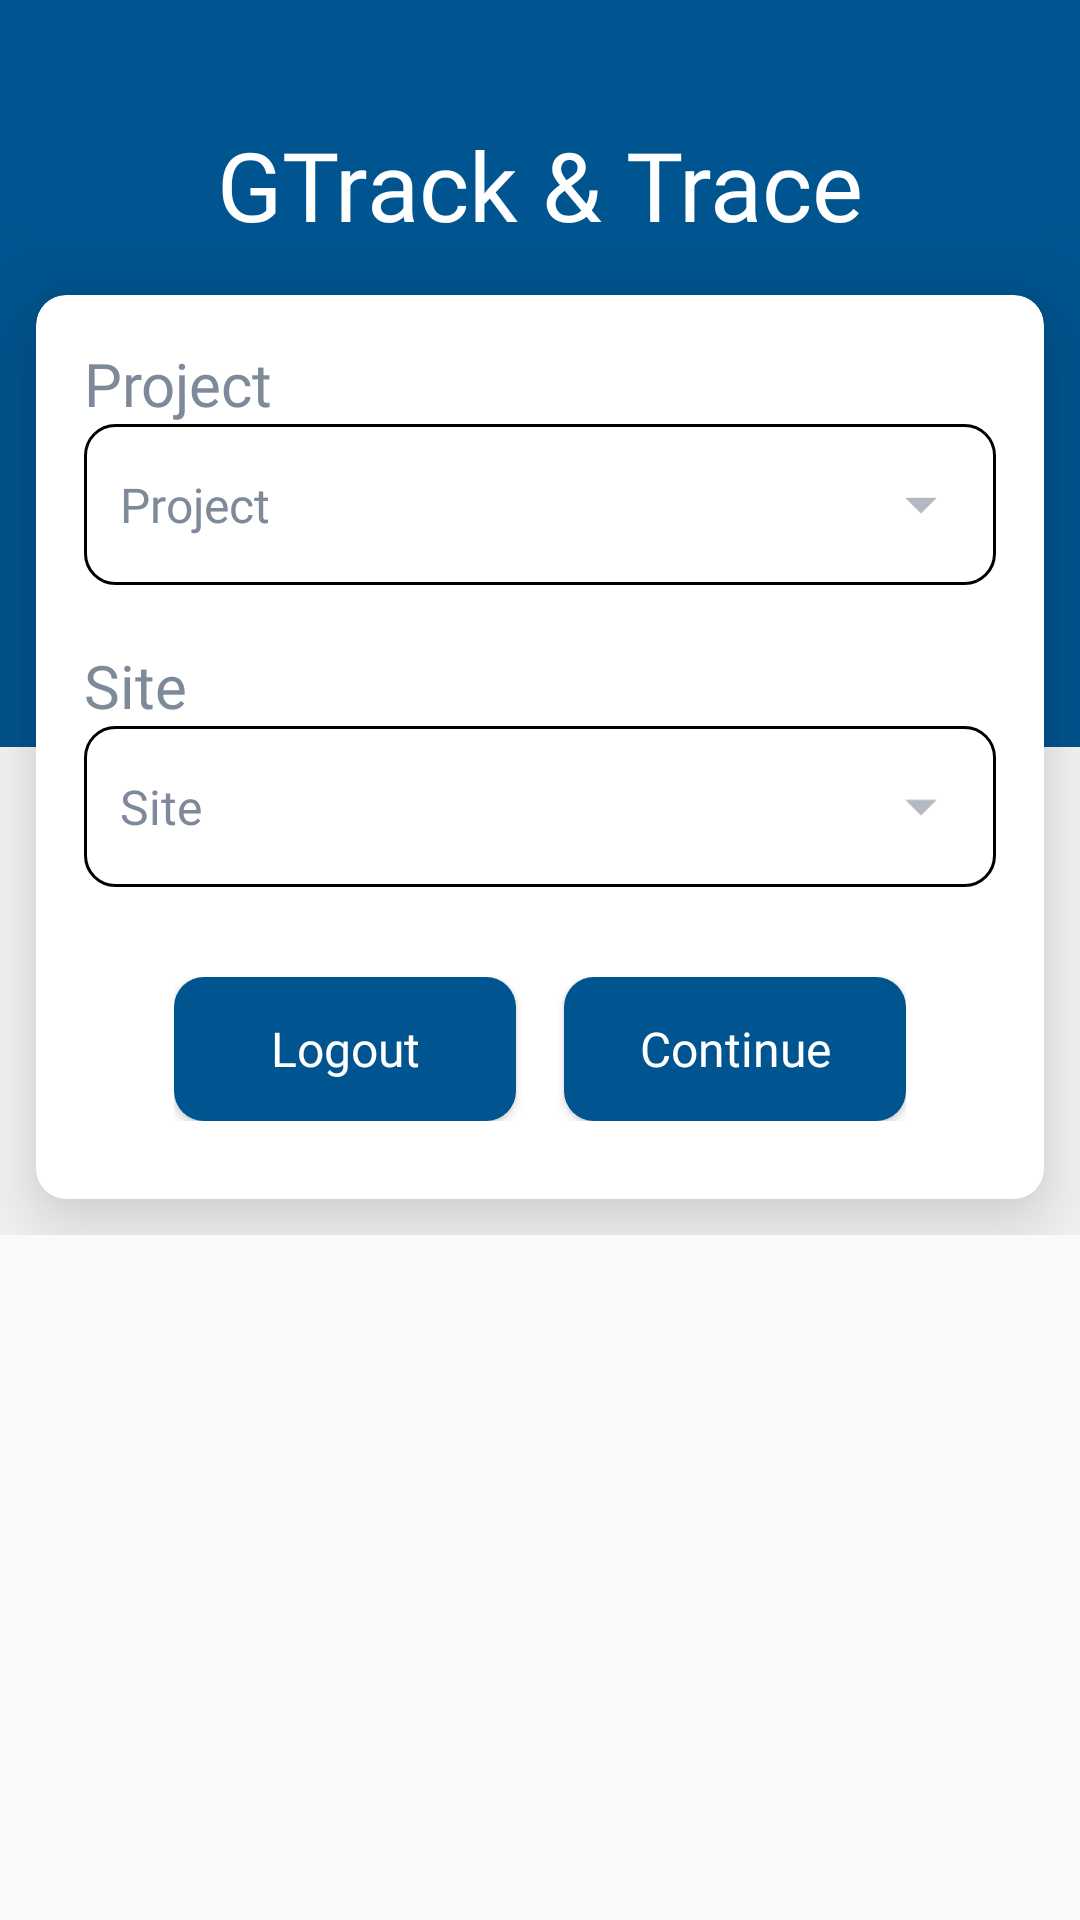

Icons on this 1080×1920 Android screen, each with its box as (x1, y1, x2, y2):
drop down: (906, 498, 936, 513), (906, 799, 936, 815)
